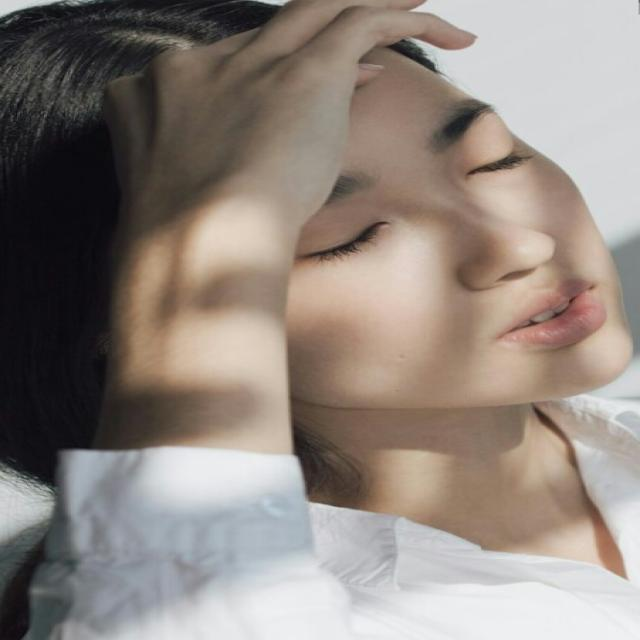front: (210, 109, 640, 398)
